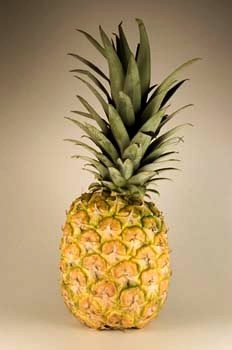pineapple: (55, 16, 205, 332)
